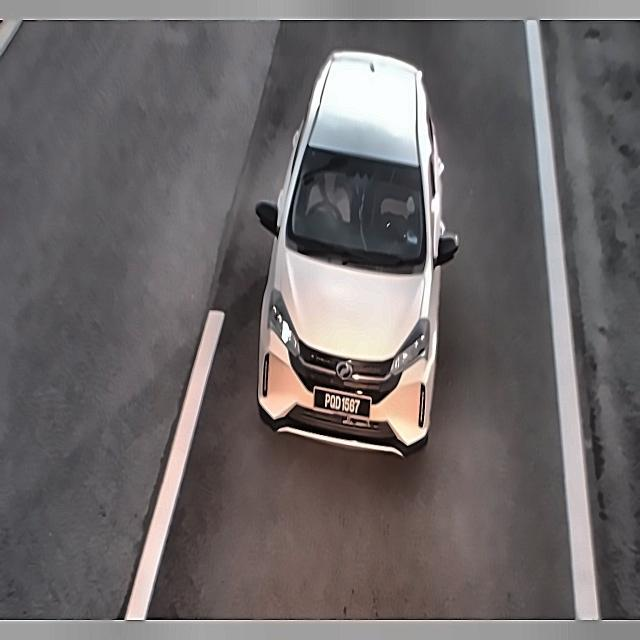car: (312, 390, 374, 427)
